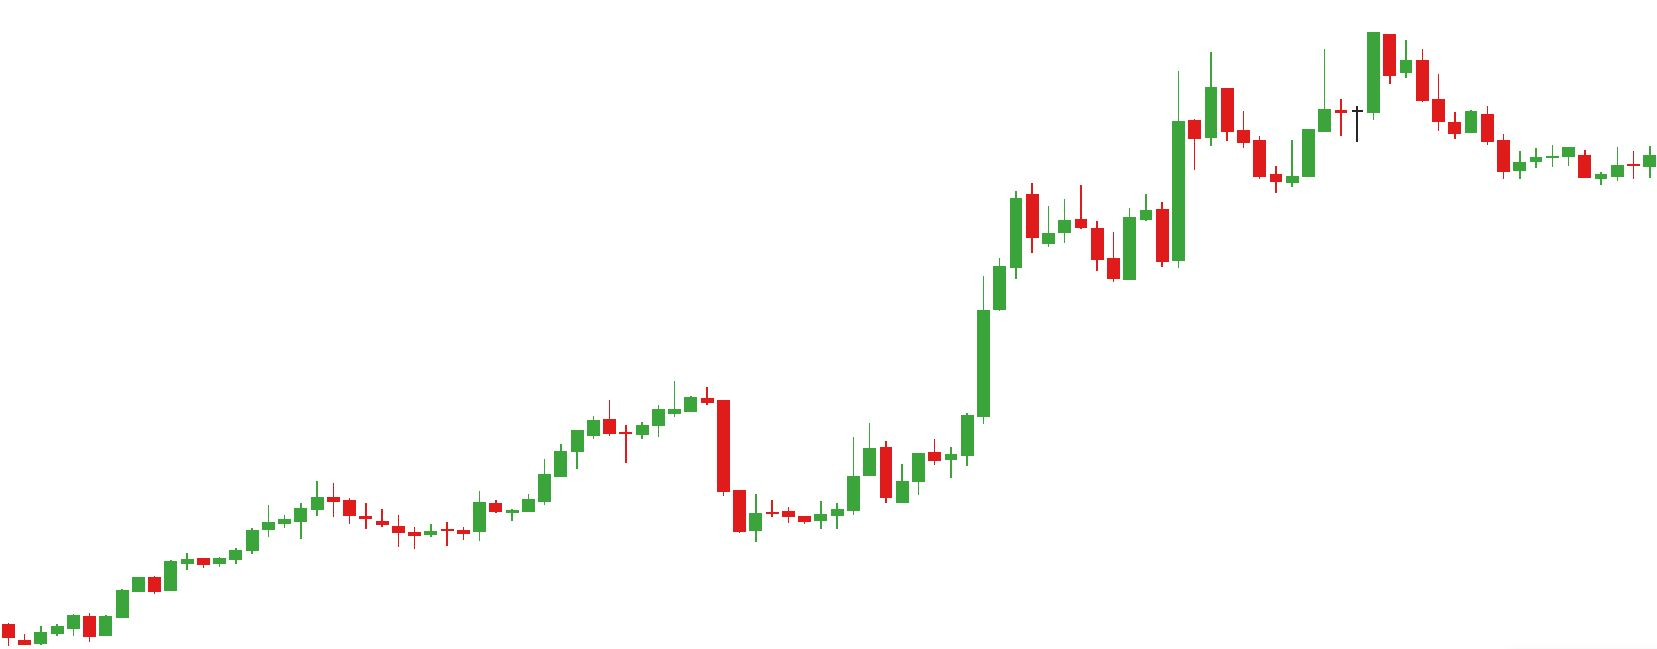sell: (1203, 29, 1398, 167)
